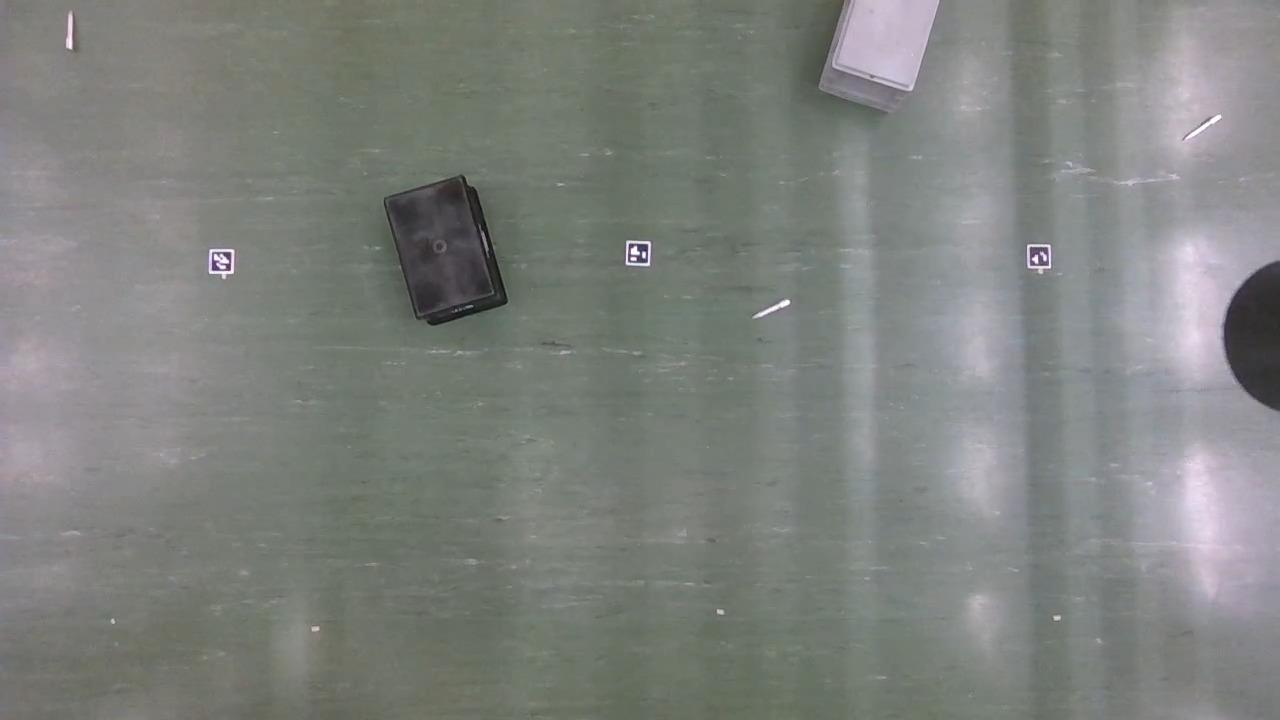probes: (1186, 115, 1220, 144), (755, 299, 790, 319), (67, 12, 77, 51)
rako: (384, 177, 507, 328), (817, 1, 939, 117)
